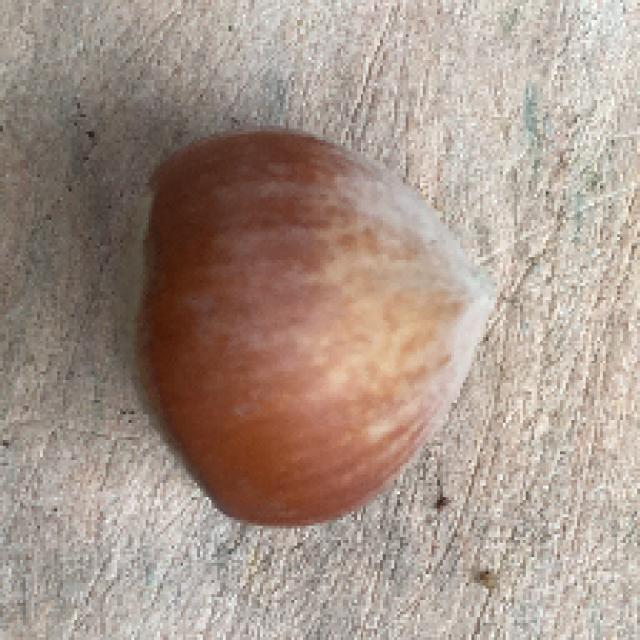qualityHazelnut: (114, 123, 497, 529)
